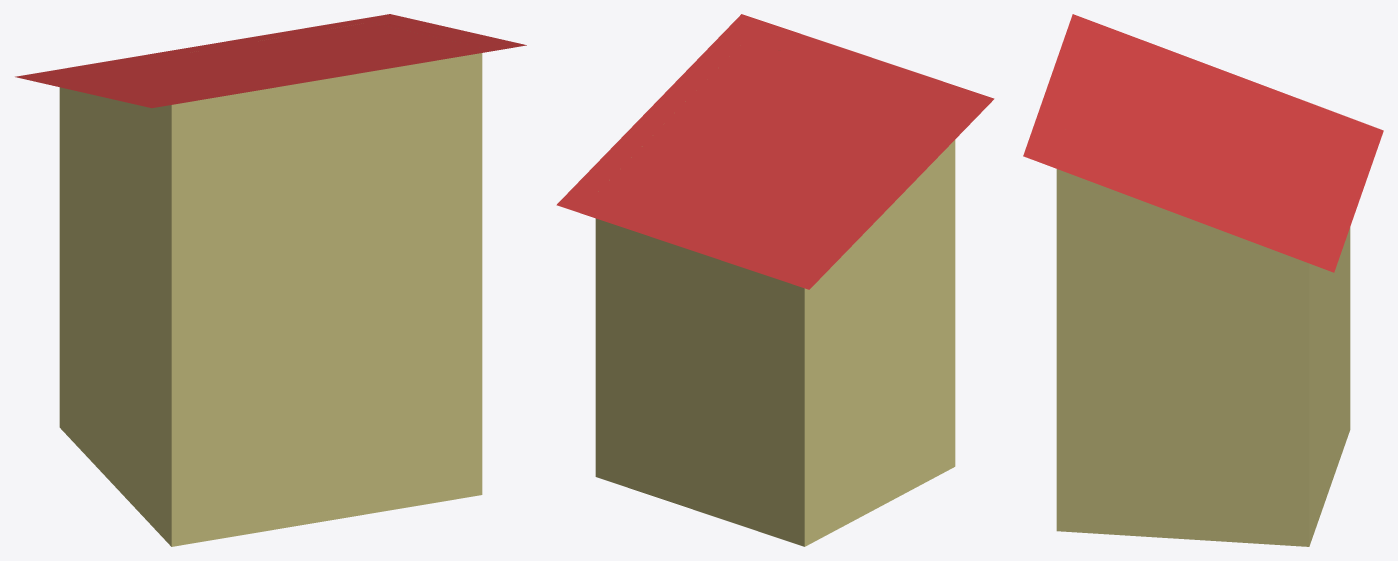
3 views of the same model, side by side, from view 1: azimuth 30°, elevation 25°; view 2: azimuth 150°, elevation 25°; view 3: azimuth 270°, elevation 25° (orthographic). The views are drawn at different scales.
Size of the model in its own units: 6.49 by 6.12 by 7.21.
